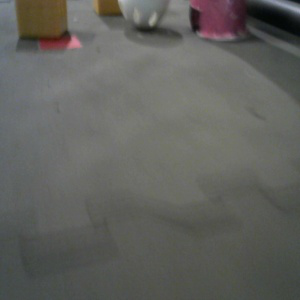right: (189, 1, 253, 41)
